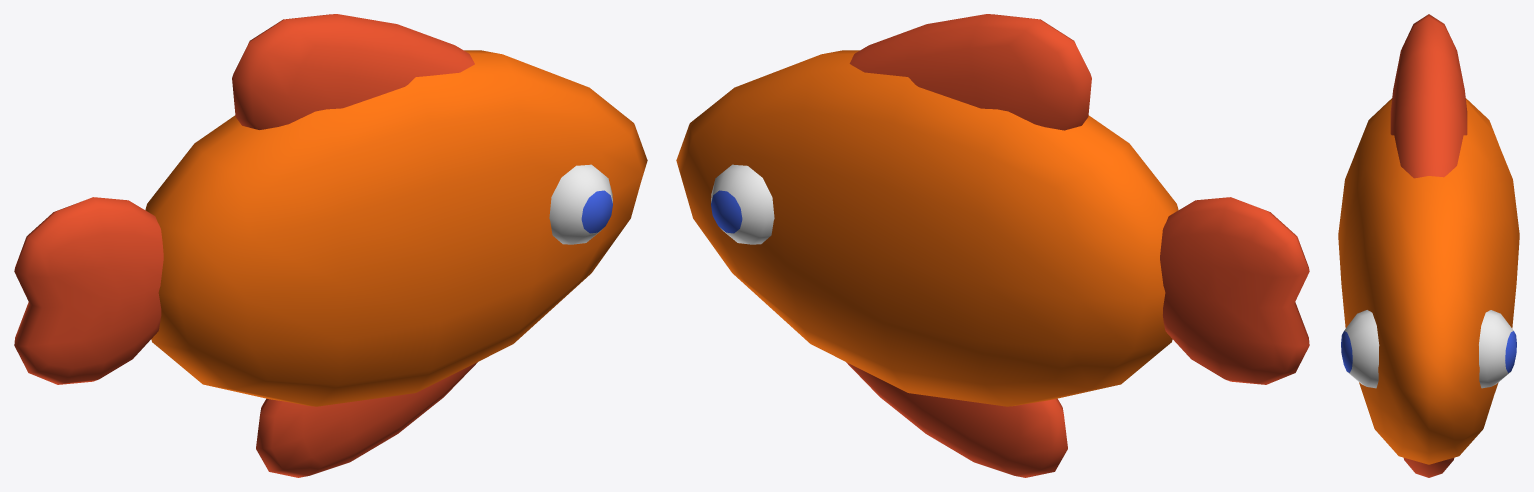
File: fishForfarm.fbx
3 views of the same model, side by side, from view 1: azimuth 30°, elevation 25°; view 2: azimuth 150°, elevation 25°; view 3: azimuth 270°, elevation 25° (orthographic). The views are drawn at different scales.
Visible parts, largest first — view 1: fish; view 2: fish; view 3: fish.
Boxes of the visible parts, x1,y1,x2,y2 form: fish: (14,14,647,477); fish: (676,14,1309,477); fish: (1338,14,1519,477).
Bounding box in the file's own units: 1.62 × 1.13 × 0.4291.
